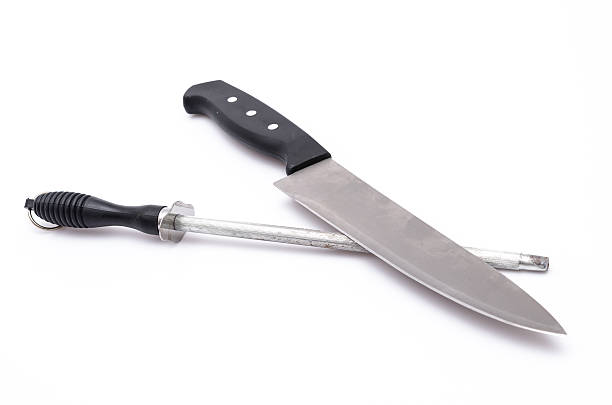knife: (180, 78, 571, 342)
